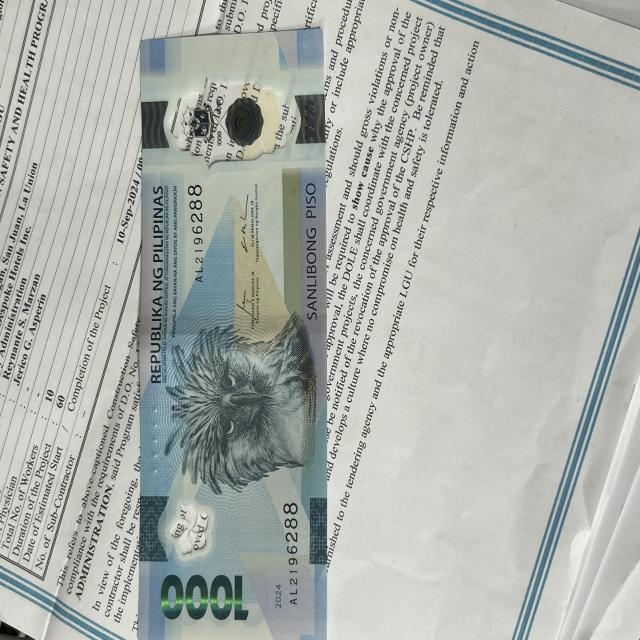clear_window: (149, 76, 303, 166)
eagle: (160, 328, 320, 484)
sampaguita: (164, 500, 216, 560)
serial_number: (185, 170, 210, 298), (278, 496, 304, 616)
